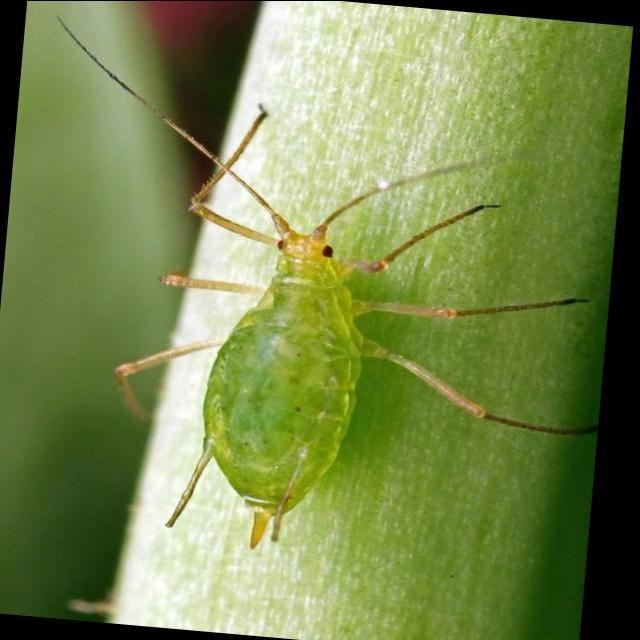aphid: (125, 85, 556, 568)
